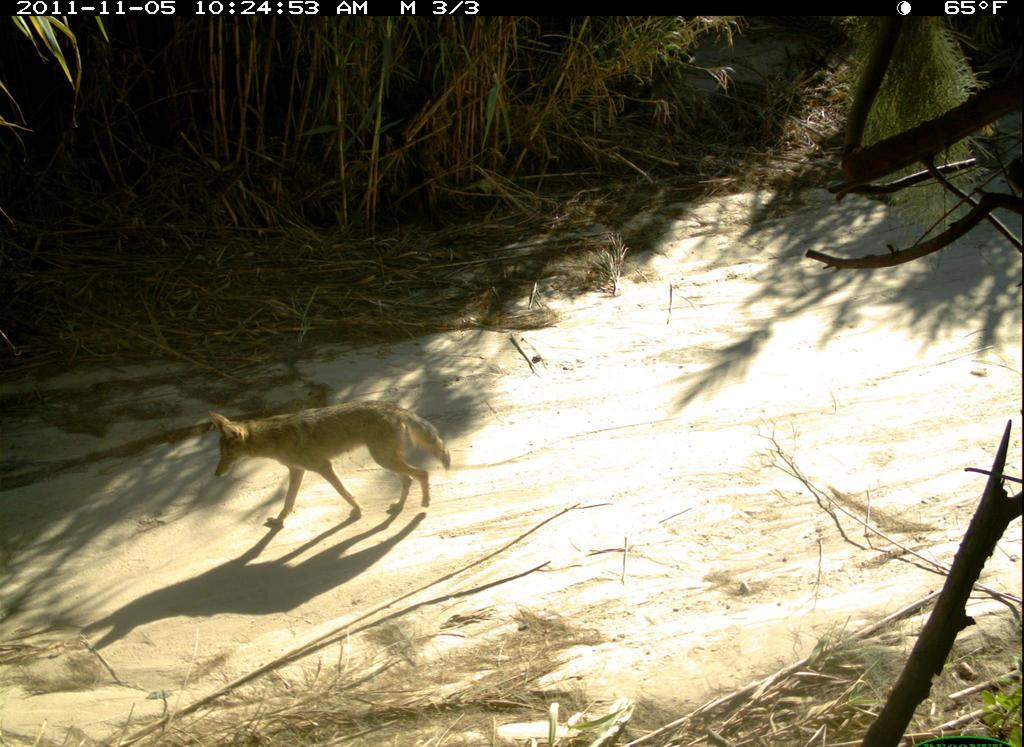coyote: (203, 397, 462, 541)
